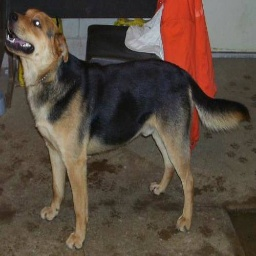dog: (3, 7, 213, 244)
